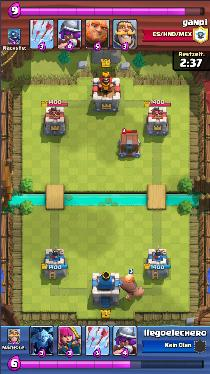ally_goblin_cage: (120, 132, 141, 156)
